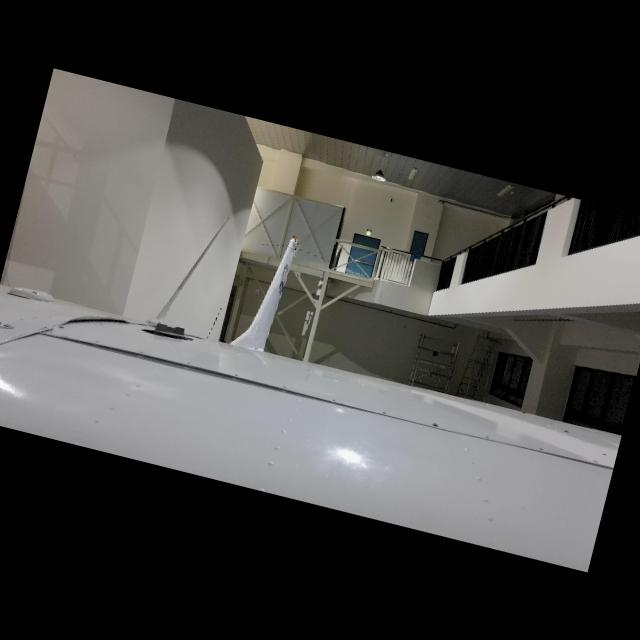dent: (53, 300, 136, 347)
